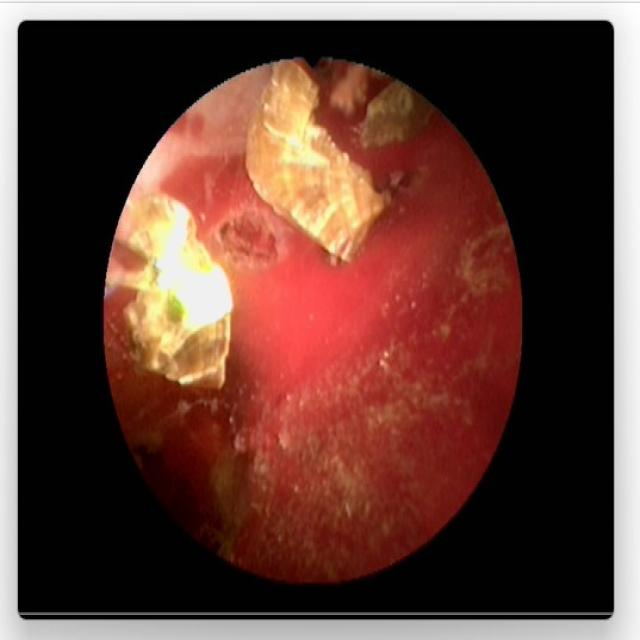stone: (248, 64, 389, 260), (127, 193, 232, 396), (363, 86, 429, 146)
tissue: (105, 84, 502, 568)
